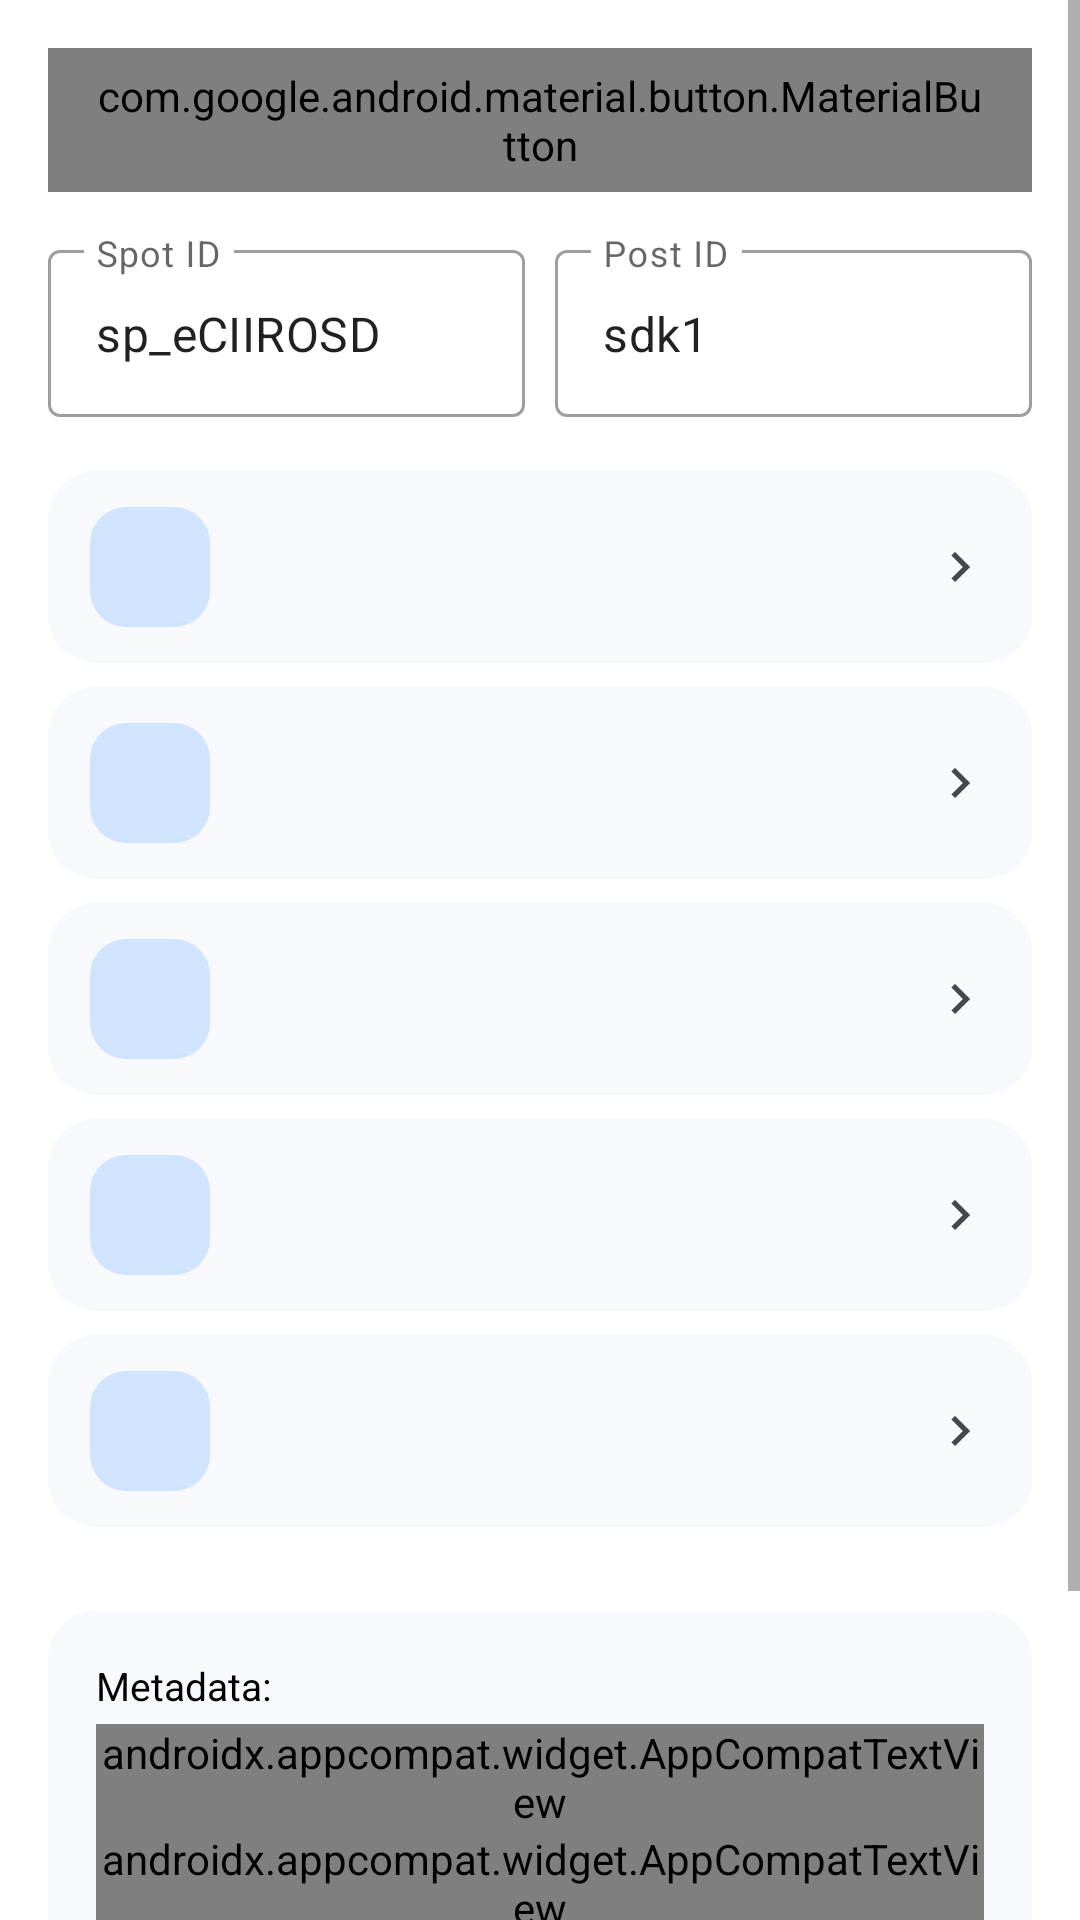

Where to tap for icons on this 1080px×1920px app screen, as (x=x, y=y):
home chevron: (x=960, y=567), (x=960, y=783), (x=960, y=999), (x=960, y=1215), (x=960, y=1431)
